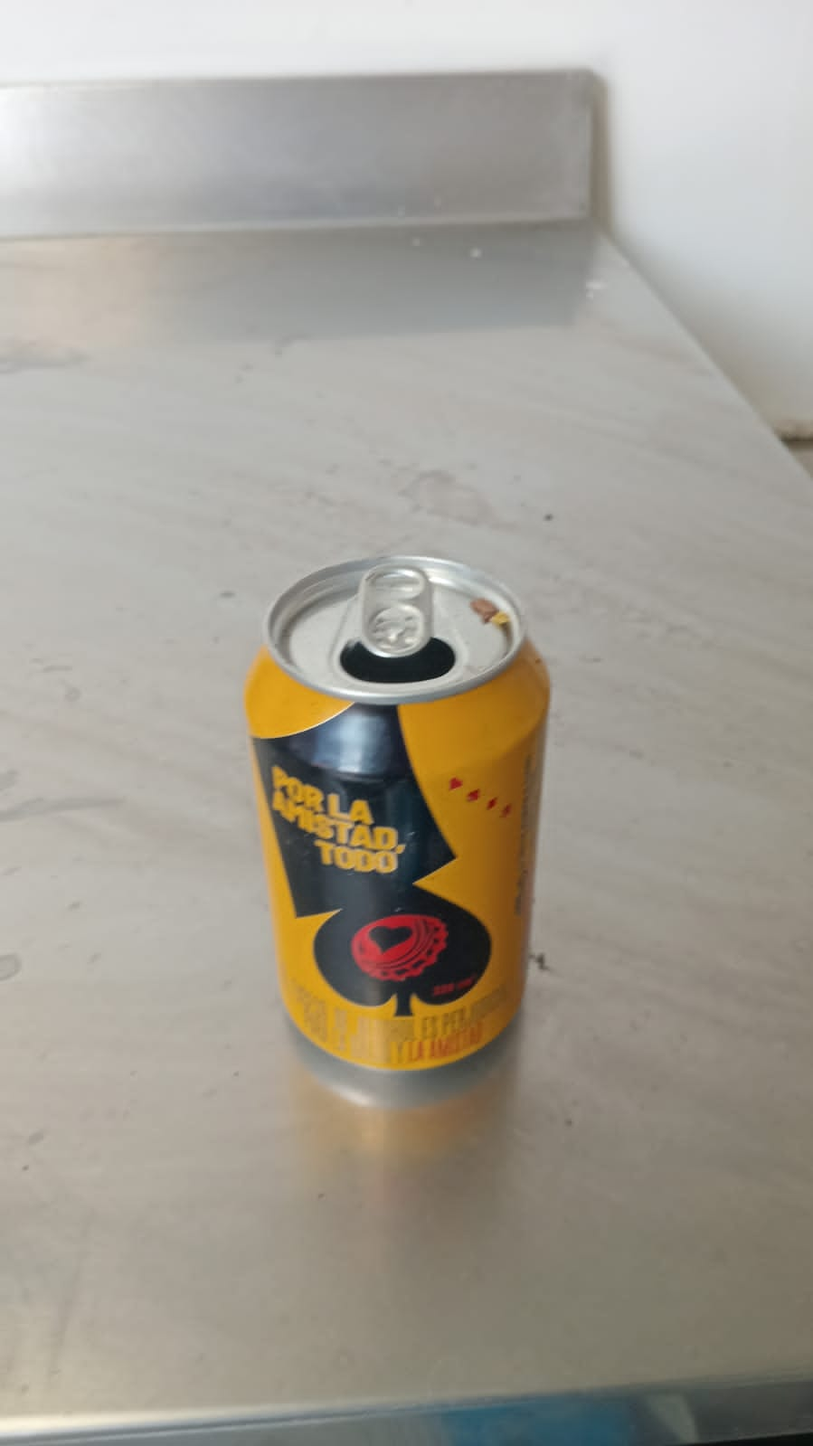Metal: (246, 549, 555, 1075)
